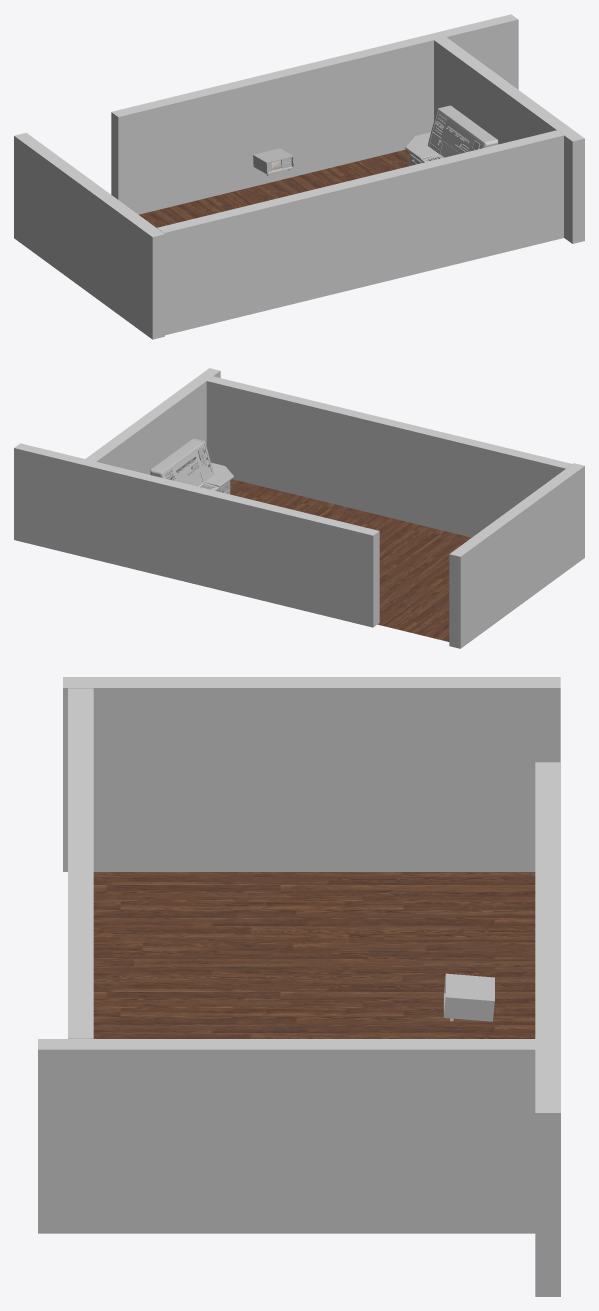
File: Gaming Room.fbx
3 renders of one model, top to bottom at view 1: azimuth 30°, elevation 25°; view 2: azimuth 150°, elevation 25°; view 3: azimuth 270°, elevation 25°, orthographic. The views are drawn at different scales.
Visible parts, largest first — view 1: Gaming_room_wall, Gaming_room_wall2, Gaming_room_wall.002, Gaming_room_wall.001, Gaming_room_floor, computer, Old_pc_small; view 2: Gaming_room_wall2, Gaming_room_wall, Gaming_room_wall.002, Gaming_room_floor, Gaming_room_wall.001, computer; view 3: Gaming_room_wall.001, Gaming_room_wall.002, Gaming_room_floor, Gaming_room_wall2, Gaming_room_wall, Old_pc_small.
Boxes of the visible parts, <box> form: Gaming_room_wall: <box>157,130,563,335</box>; Gaming_room_wall2: <box>111,14,518,214</box>; Gaming_room_wall.002: <box>14,132,164,339</box>; Gaming_room_wall.001: <box>434,37,584,243</box>; Gaming_room_floor: <box>139,149,409,227</box>; computer: <box>405,105,498,165</box>; Old_pc_small: <box>253,148,294,175</box>; Gaming_room_wall2: <box>14,443,379,627</box>; Gaming_room_wall: <box>206,376,571,537</box>; Gaming_room_wall.002: <box>449,463,584,648</box>; Gaming_room_floor: <box>230,479,471,641</box>; Gaming_room_wall.001: <box>85,368,220,474</box>; computer: <box>150,438,233,494</box>; Gaming_room_wall.001: <box>38,1039,535,1233</box>; Gaming_room_wall.002: <box>63,677,560,871</box>; Gaming_room_floor: <box>93,872,535,1038</box>; Gaming_room_wall2: <box>535,762,560,1296</box>; Gaming_room_wall: <box>68,688,93,1038</box>; Old_pc_small: <box>443,973,494,1021</box>.
Size of the model in its own units: 1765 by 349 by 895.
